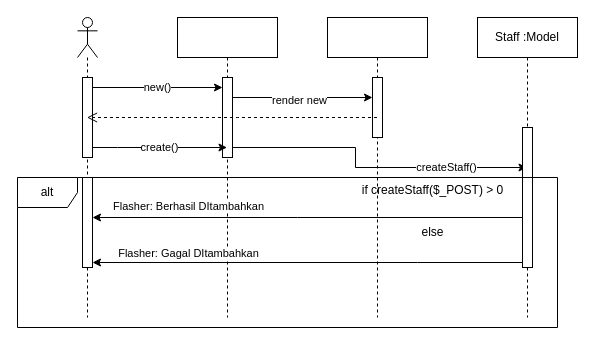
Some shapes in this 595 by 345 pixel diagram are drawn without their labels. The box of each missing label's shape, as (x1, y1, x2, y2) in pixels:
Staff :Controller: (176, 16, 278, 318)
Staff :View: (326, 16, 428, 318)
